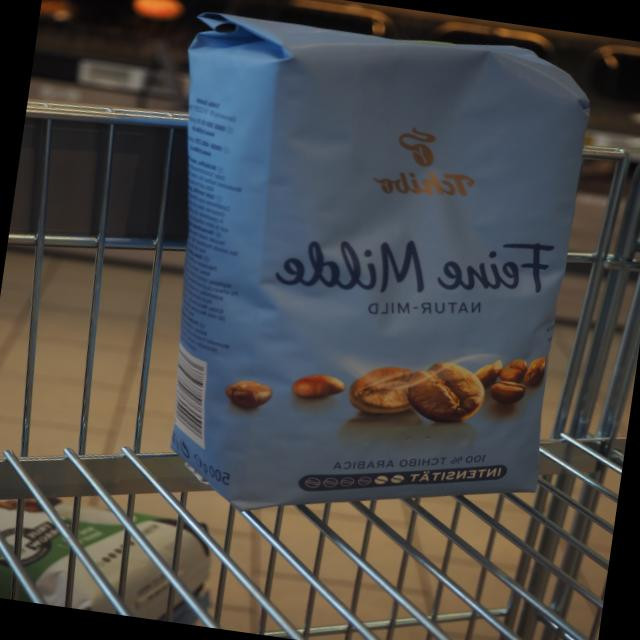FM Bohne: (118, 0, 603, 556)
